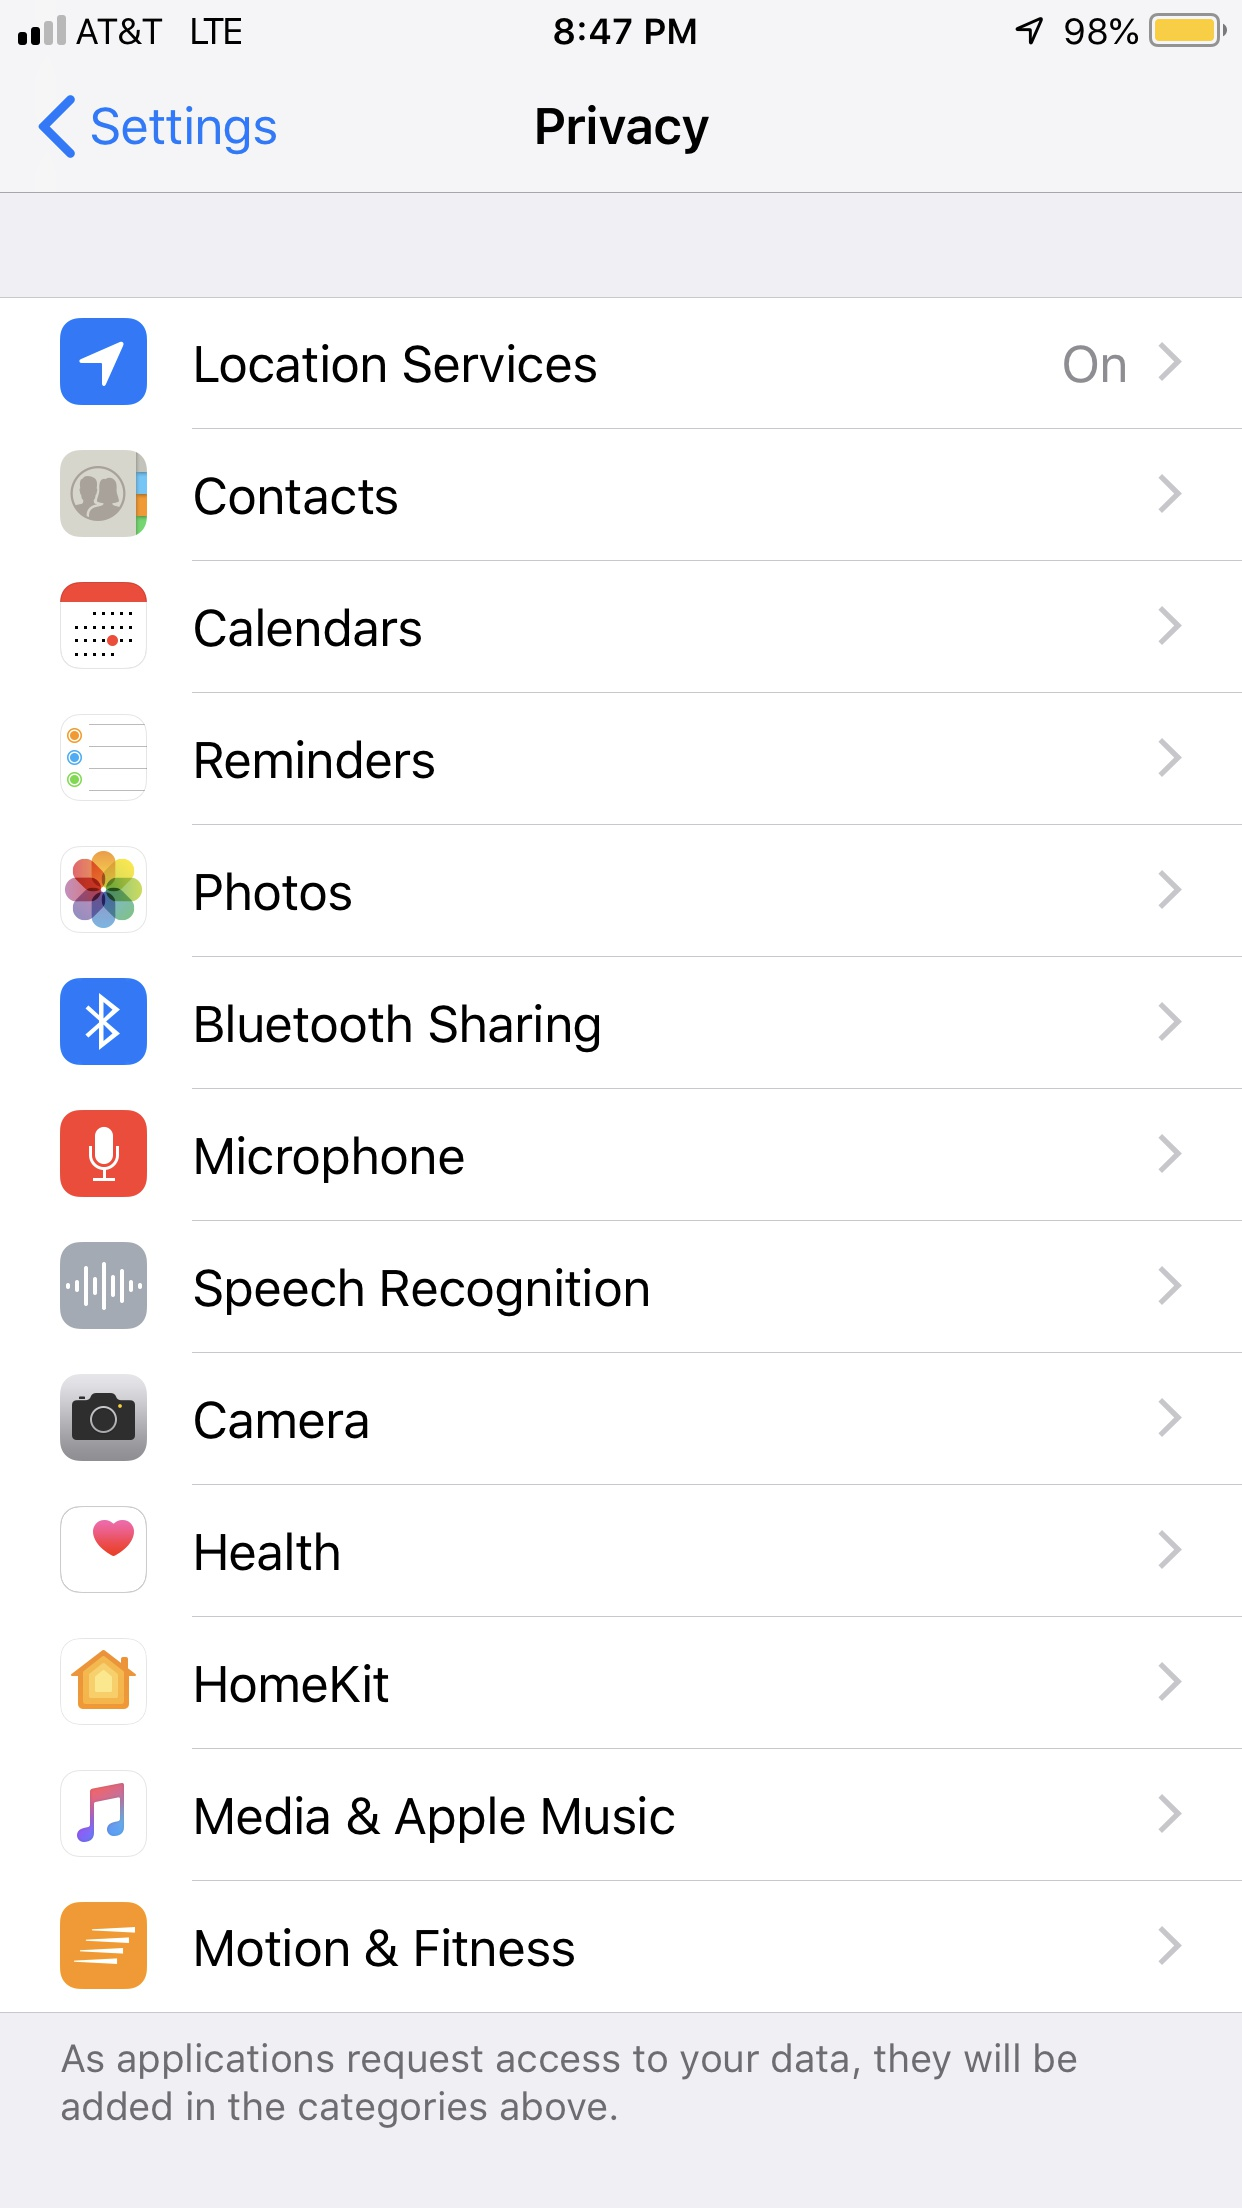Icon: (61, 1636, 149, 1726), (61, 1506, 149, 1594), (61, 1374, 149, 1462), (61, 1110, 149, 1198), (61, 978, 149, 1066), (61, 318, 149, 406), (38, 96, 77, 161), (1159, 475, 1183, 516), (1159, 737, 1183, 778), (1159, 1001, 1183, 1042), (1159, 1133, 1183, 1174), (1159, 1265, 1183, 1306), (1159, 1529, 1183, 1570), (1159, 1792, 1183, 1833), (1159, 343, 1183, 382), (1159, 607, 1183, 646), (1159, 870, 1183, 910), (1159, 1398, 1183, 1438), (1159, 1662, 1183, 1701), (1159, 1926, 1183, 1965)
Image: (61, 1240, 149, 1330), (61, 713, 149, 802), (61, 1902, 149, 1990), (61, 1770, 149, 1858), (61, 846, 149, 934), (61, 582, 149, 670), (61, 450, 149, 538)
Text: (61, 2043, 1077, 2129), (196, 1796, 675, 1844), (196, 1268, 651, 1318), (196, 1004, 601, 1054), (196, 344, 597, 385), (196, 1927, 575, 1968), (196, 1134, 466, 1184), (196, 740, 437, 781), (196, 608, 423, 649), (93, 106, 278, 156), (535, 105, 710, 156), (196, 476, 397, 516), (196, 1664, 390, 1705), (196, 1400, 369, 1441), (197, 872, 353, 911), (196, 1532, 340, 1573), (1065, 344, 1127, 385)
UpperTaskBar: (2, 2, 1242, 49)
